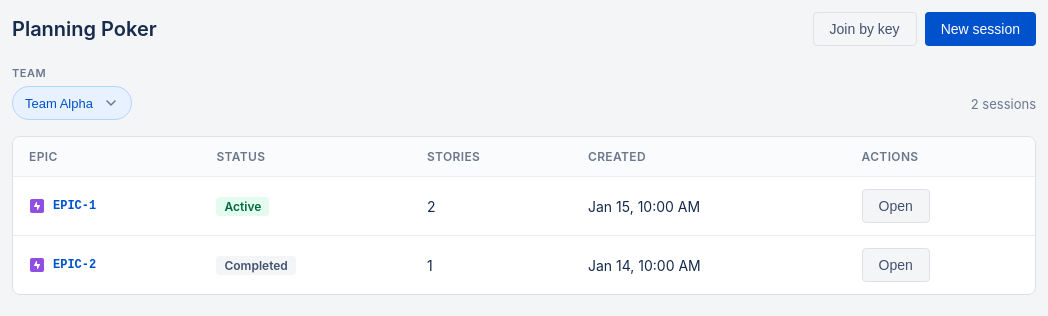
Scenario: PlanningPokerPage › Create session (epic picker) › should return to sessions list on "Cancel" click
Step 1. Click the button "New session" → coordinates (980, 29), box [925,12,1036,46]
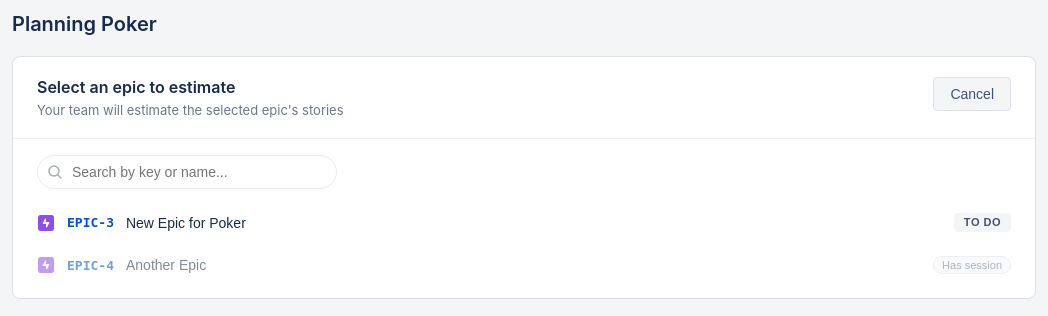
Check: the heading "Select an epic to estimate" is shown, box [37,77,235,97]
Step 2. Click the button "Cancel" → coordinates (972, 94), box [933,77,1011,111]
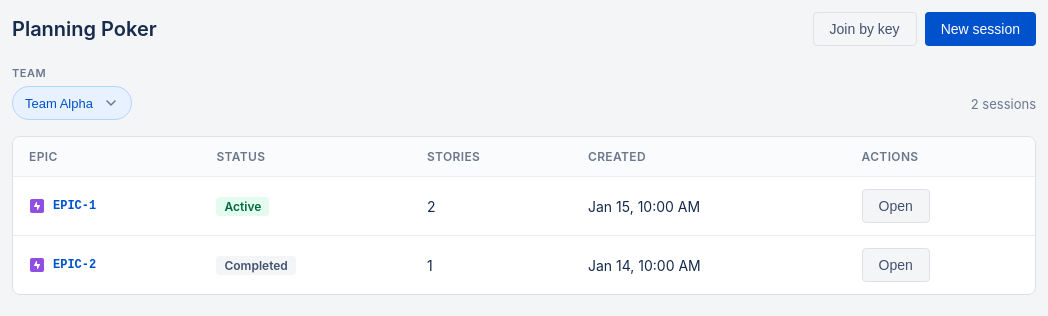
Check: the heading "Select an epic to estimate" is gone
